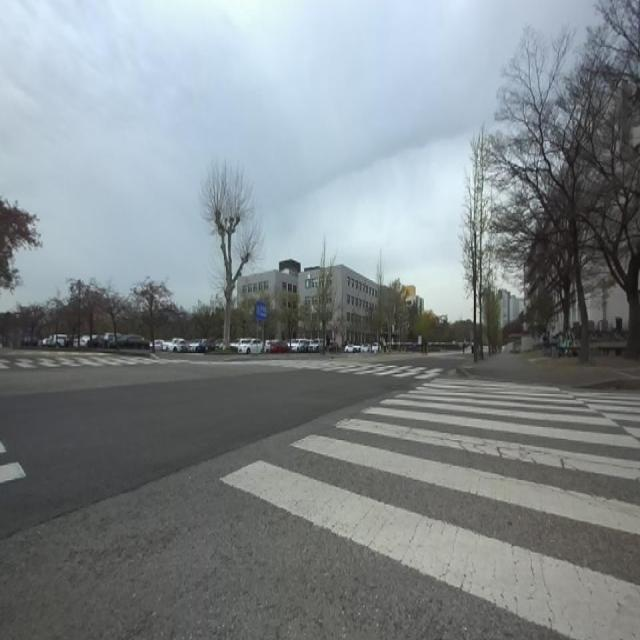sidewalk: (458, 350, 640, 387)
